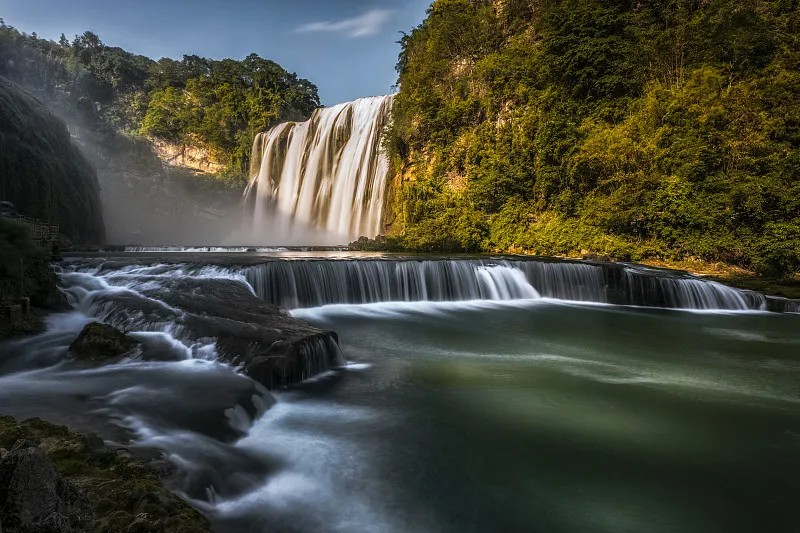Huangguoshu: (244, 92, 389, 243)
